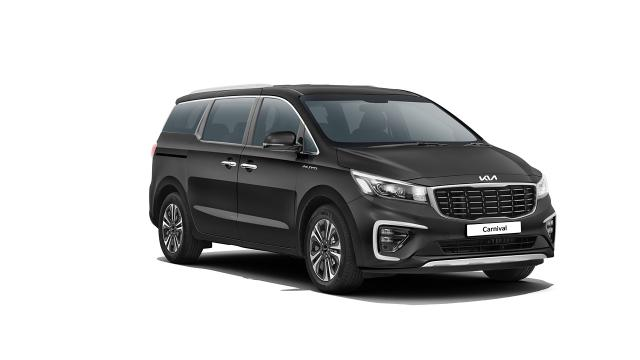kia: (149, 84, 557, 294)
